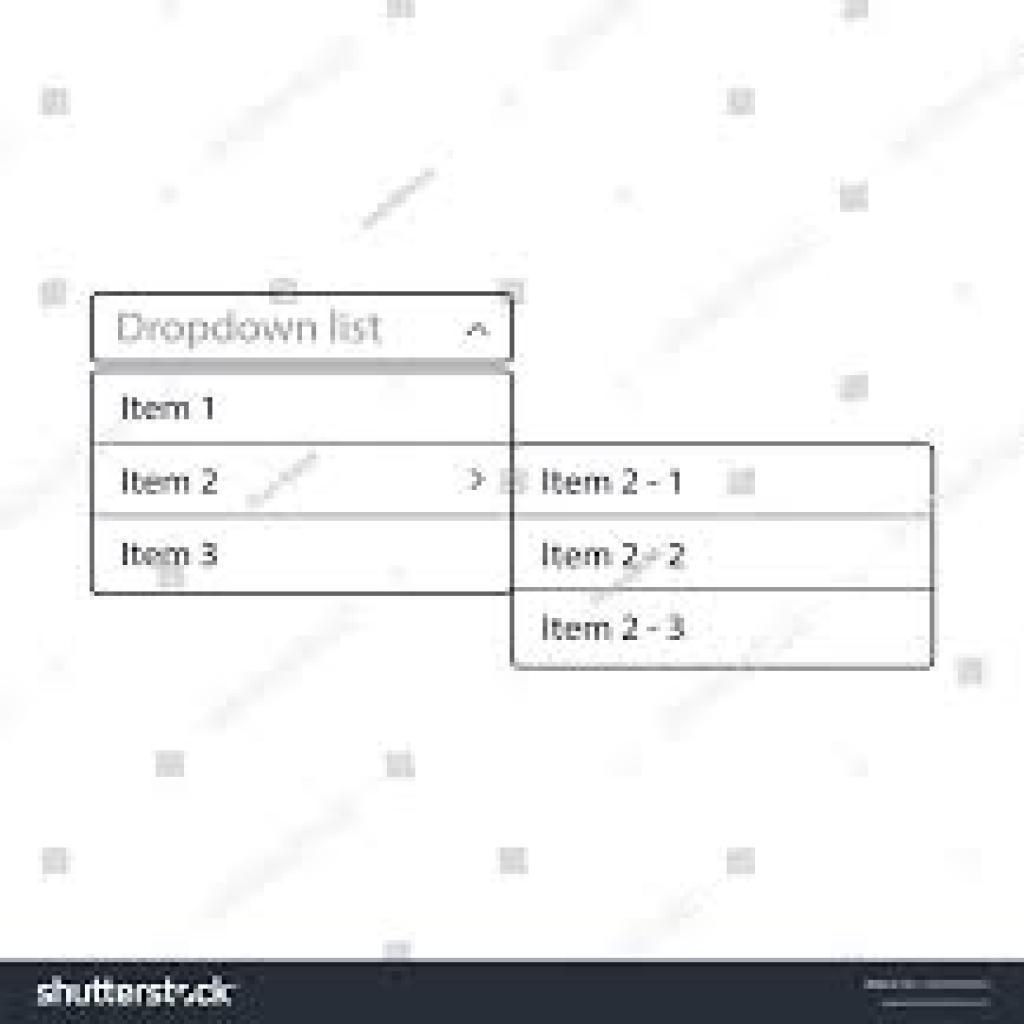dropdown: (93, 293, 514, 365)
